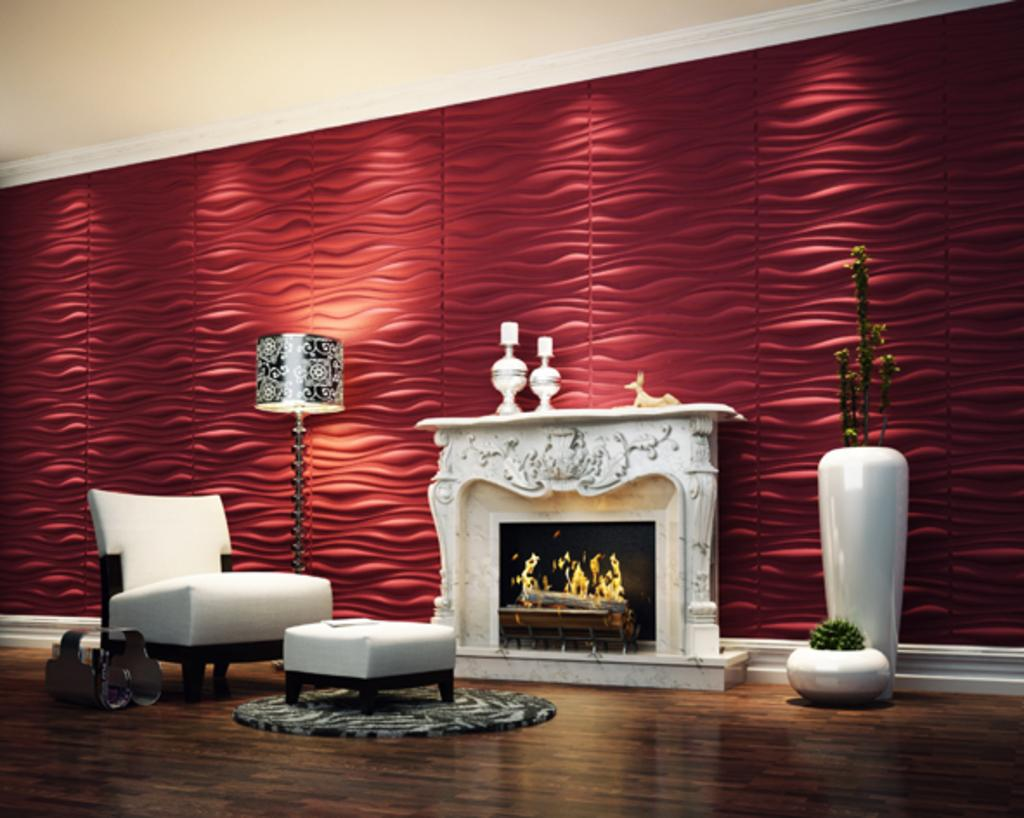Fire: (511, 549, 633, 617)
